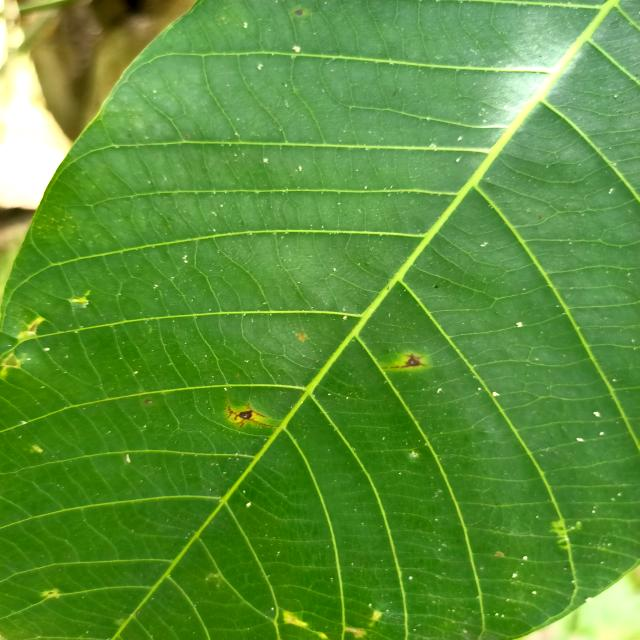Corynespora: (224, 400, 278, 429), (380, 351, 427, 369)
